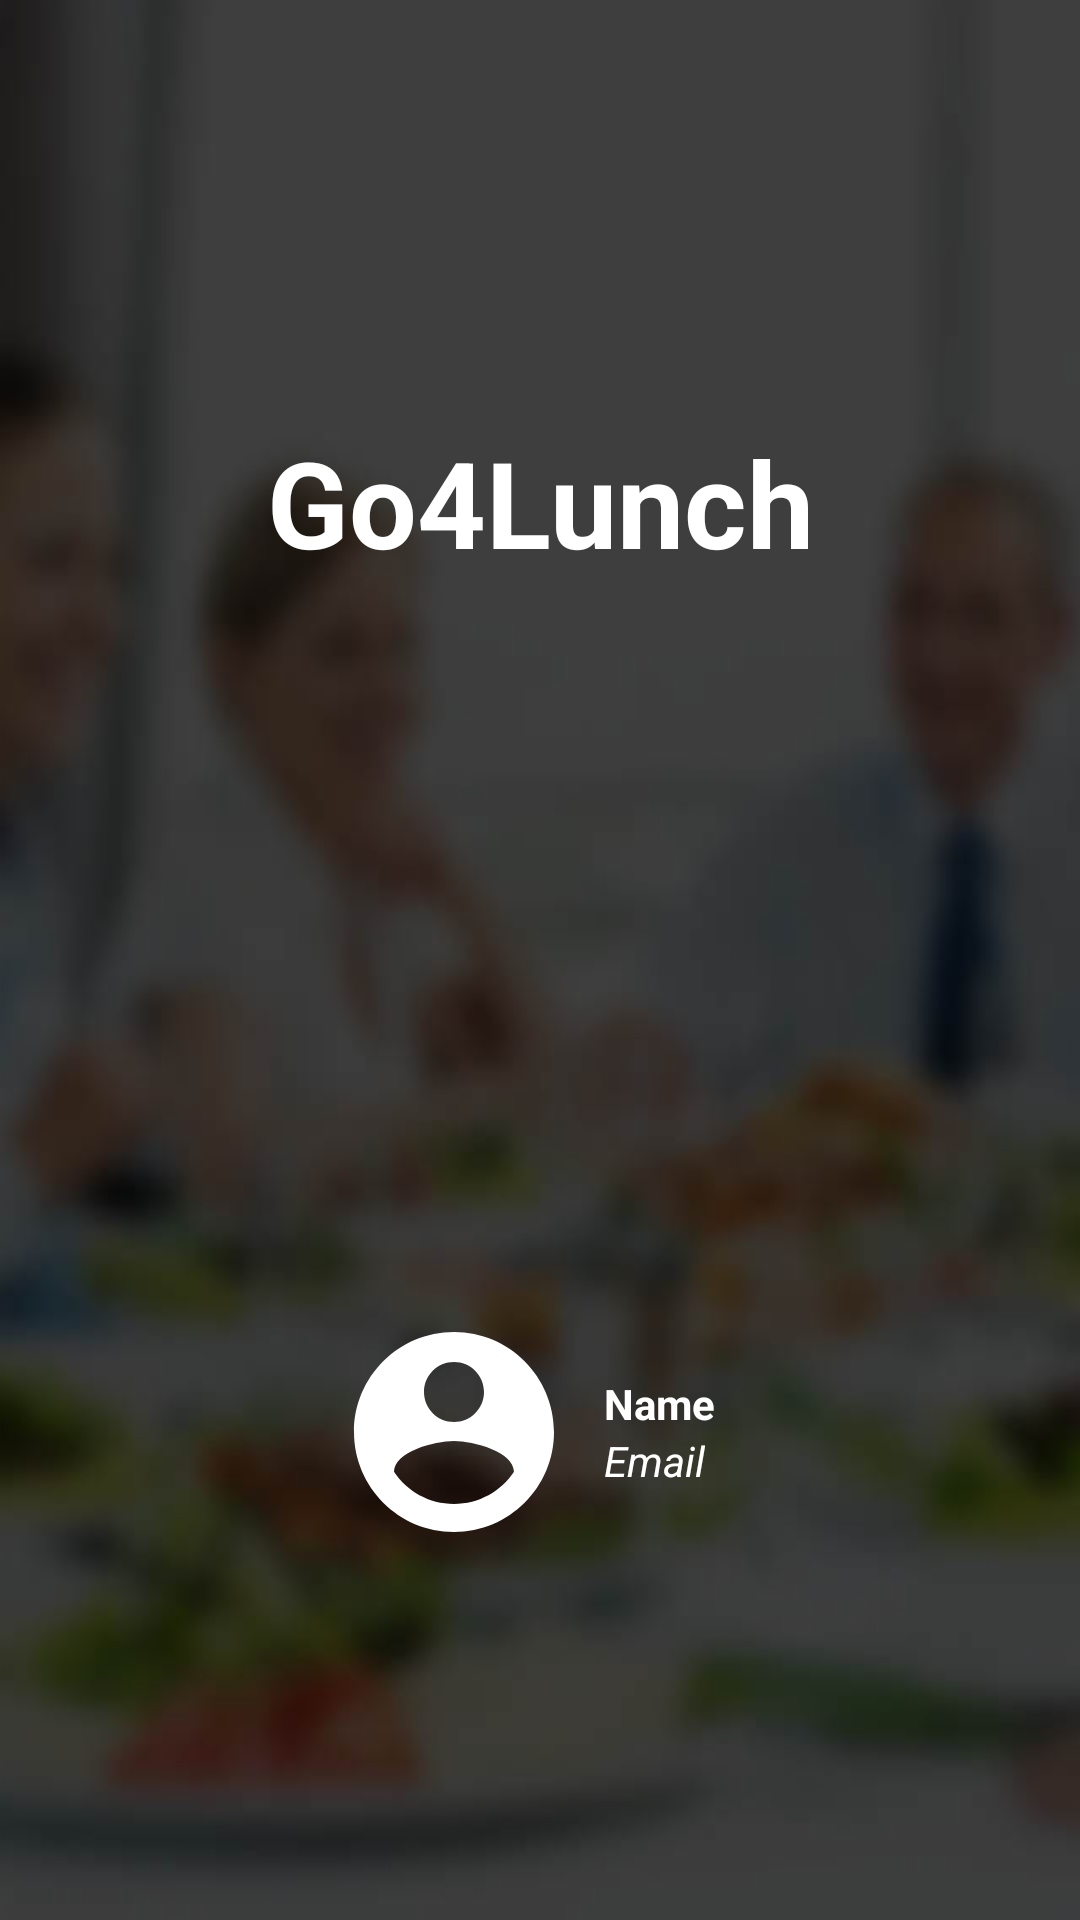

Icon click points for this 1080 x 1920 phone screenshot, format (x=x, y=y):
user: (x=454, y=1432)
